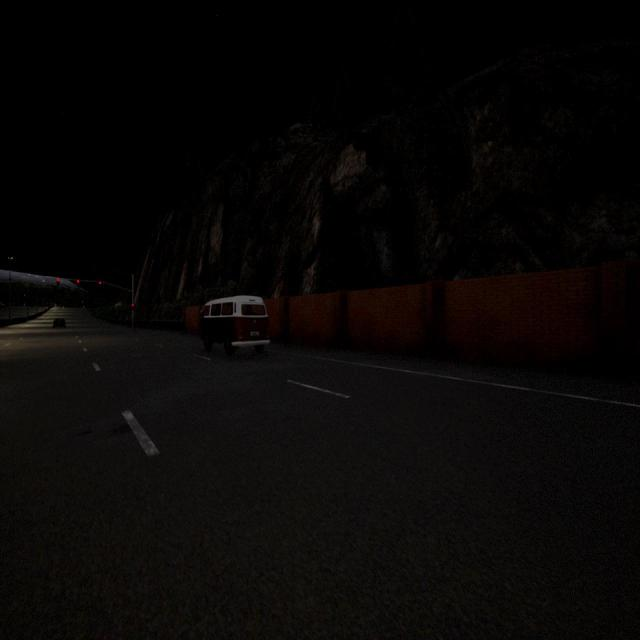Vehicle: (200, 295, 270, 355), (53, 317, 66, 328)
traffic_light: (56, 278, 60, 286), (76, 279, 80, 287), (132, 303, 134, 311), (99, 281, 101, 286)
